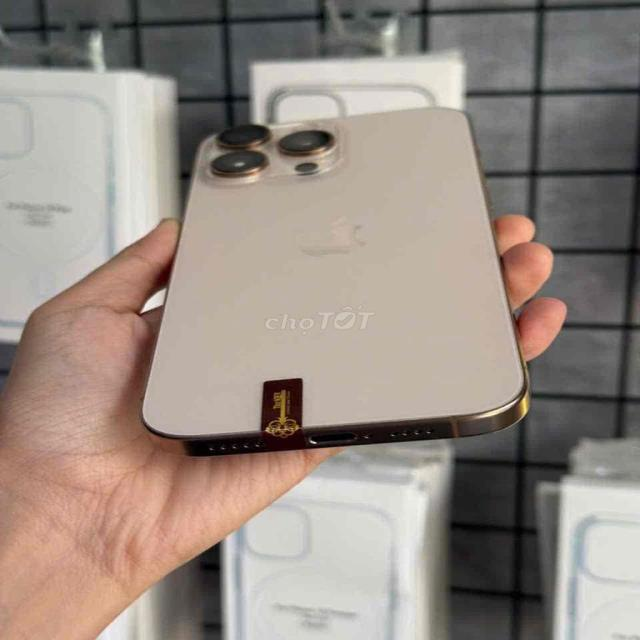gen_16: (136, 92, 546, 461)
